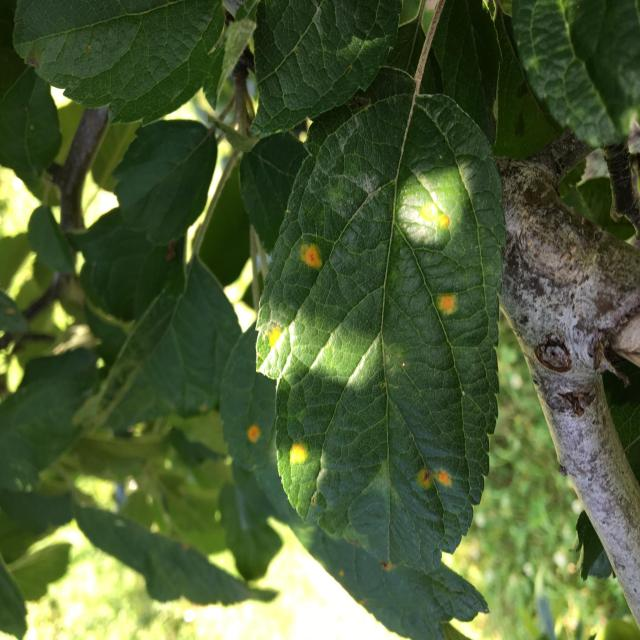Rust: (420, 284, 468, 325), (416, 201, 460, 237), (291, 238, 333, 274), (278, 441, 319, 476), (374, 548, 406, 586), (434, 454, 457, 503), (245, 409, 267, 454), (416, 459, 436, 498)
